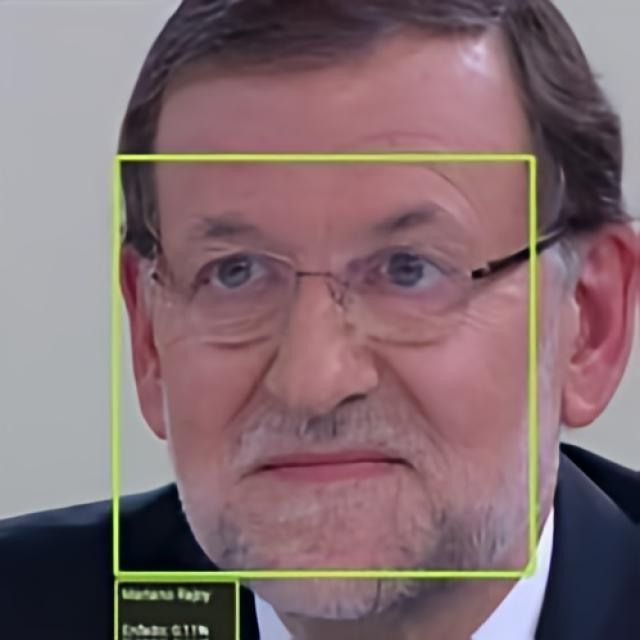disgust: (155, 22, 565, 620)
